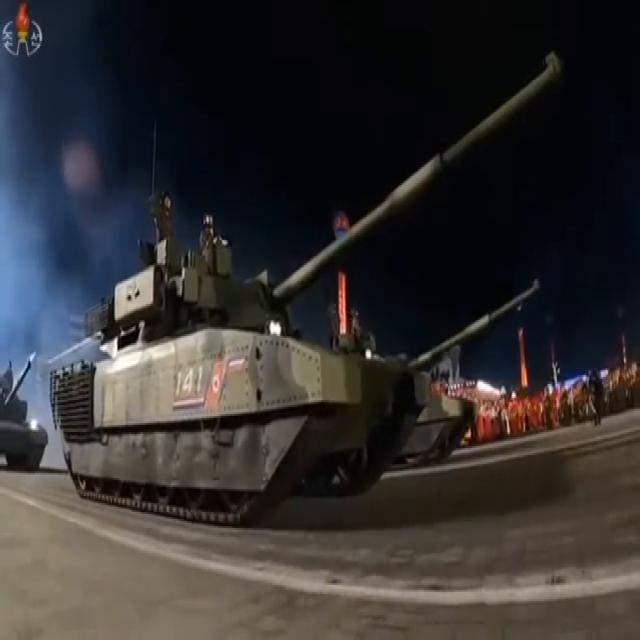north tank: (38, 44, 594, 522), (344, 277, 577, 463), (0, 340, 55, 495)
